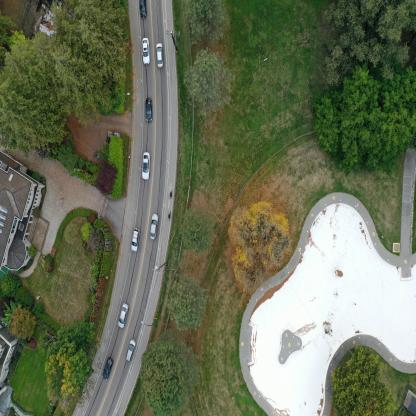Coniferous Tree: (332, 0, 416, 79), (231, 200, 288, 286), (56, 0, 129, 59), (142, 342, 199, 414), (0, 84, 68, 144), (59, 53, 124, 112), (2, 35, 55, 92), (186, 52, 233, 113), (169, 278, 209, 328), (188, 0, 224, 43), (184, 208, 207, 250)
Deciduous Tree: (314, 77, 416, 166), (335, 348, 392, 416), (45, 338, 86, 410), (97, 161, 115, 191)
